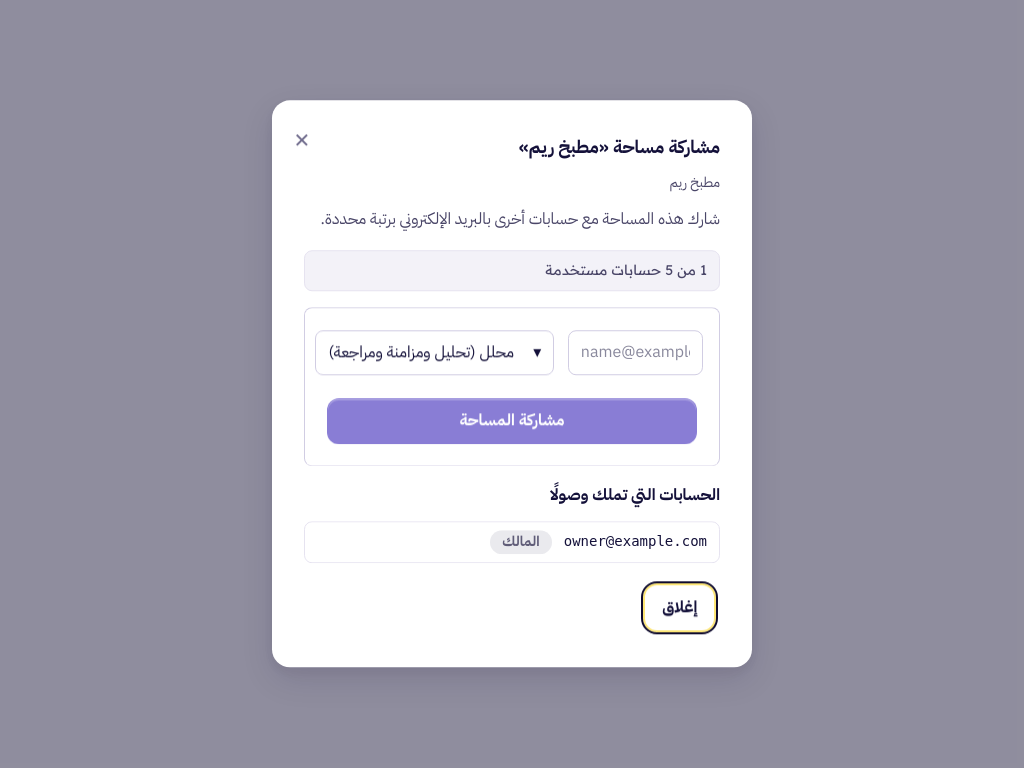
Test: ShareWorkspaceDialog › submits email to share_workspace and refreshes list
The width and height of the screenshot is (1024, 768).
Type "colleague@example.com" into the field with test id "share-email-input".
click(635, 353); type("colleague@example.com")  # box [568, 330, 703, 375]
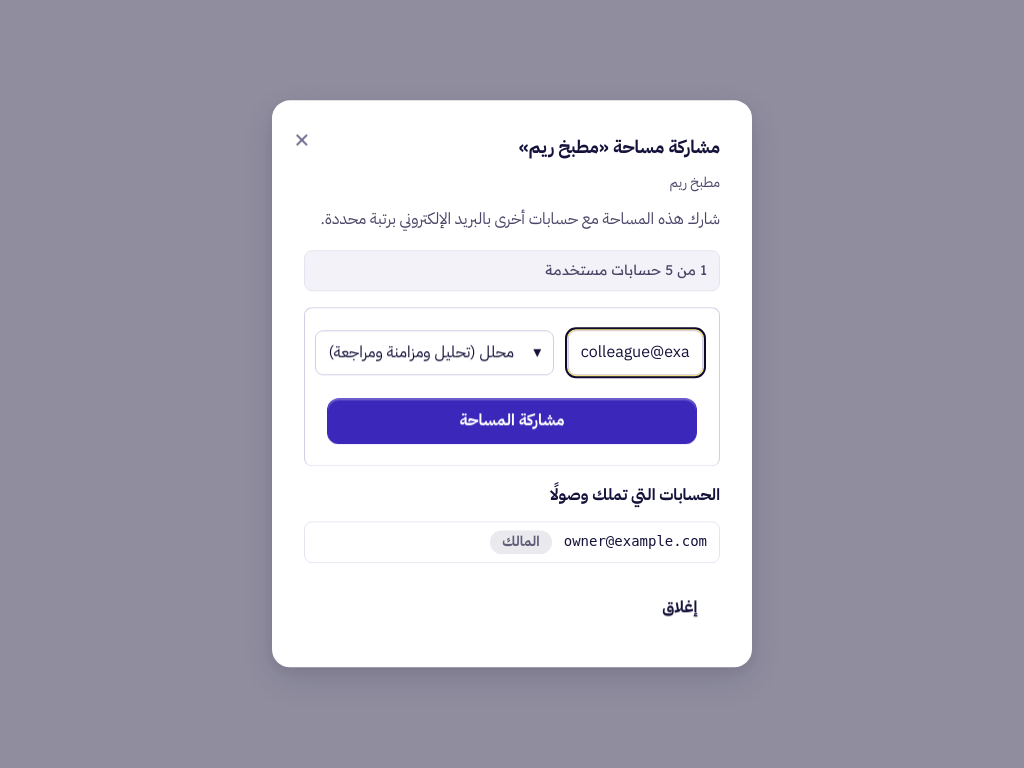
Click the button with test id "share-submit-btn".
click(512, 421)  # box [327, 399, 697, 444]
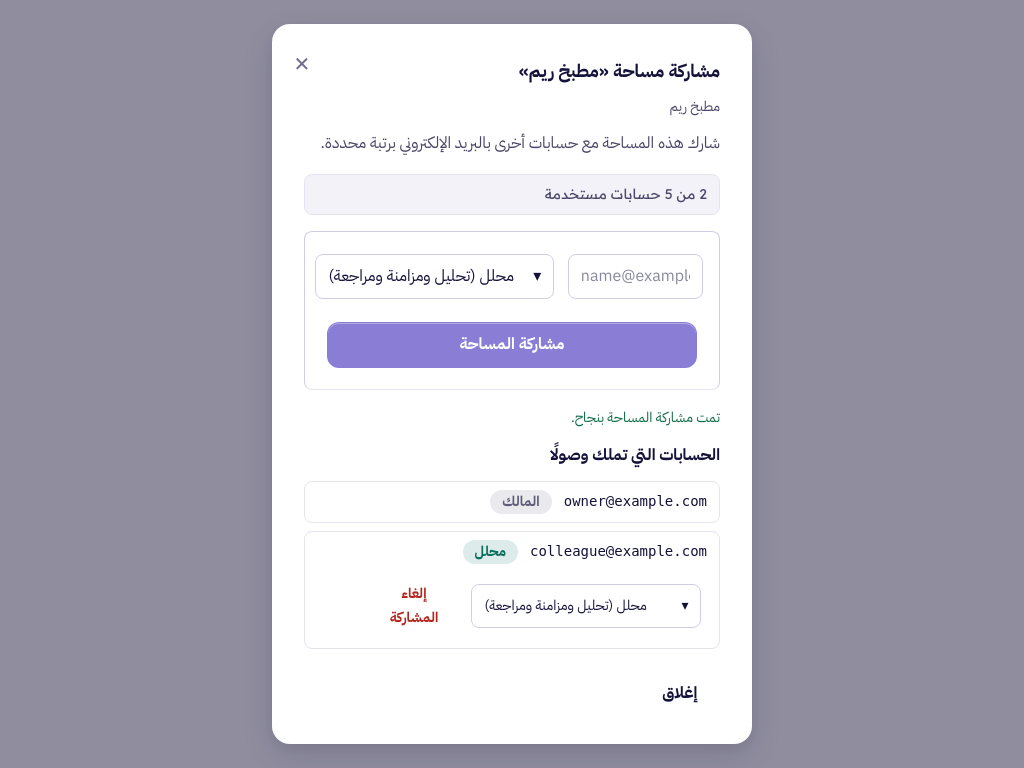
Check: the message with test id "share-success" reads "تمت مشاركة المساحة بنجاح.", box [571, 407, 720, 428]
Check: the text "colleague@example.com" is shown, box [530, 540, 707, 564]
